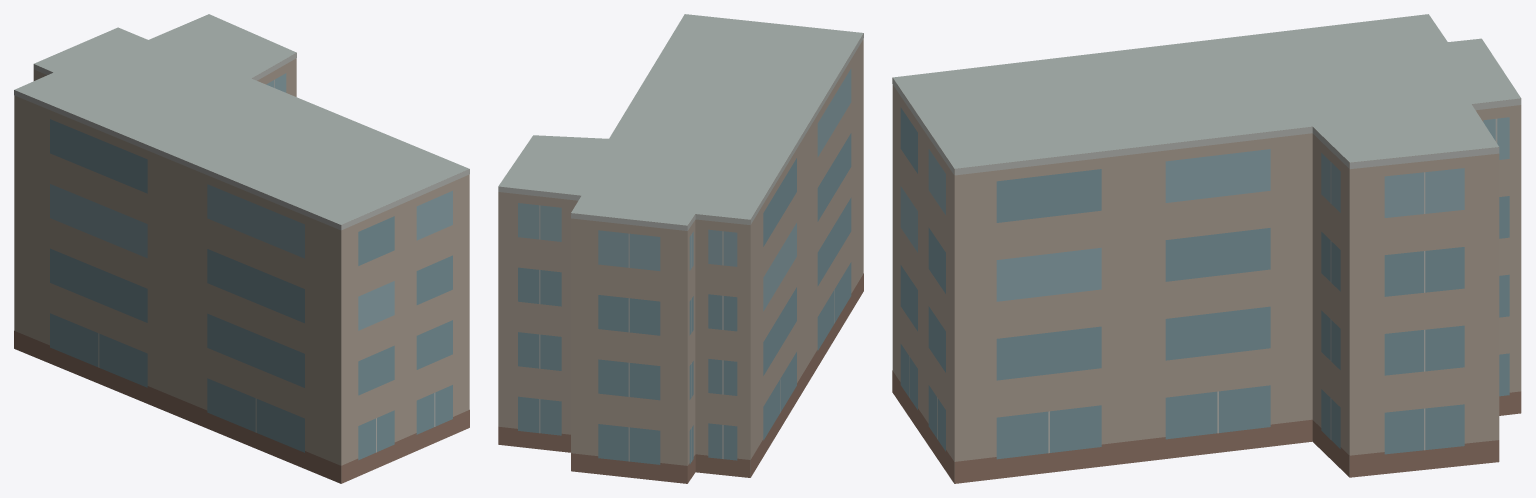
The model's file is survey-upis-32744264.glb.
The picture shows the model from 3 angles, left to right: view 1: azimuth 30°, elevation 25°; view 2: azimuth 150°, elevation 25°; view 3: azimuth 270°, elevation 25°; orthographic projection. The views are drawn at different scales.
Visible parts, largest first — view 1: survey-upis-32744264.tmp; view 2: survey-upis-32744264.tmp; view 3: survey-upis-32744264.tmp.
Boxes of the visible parts, <box> form: survey-upis-32744264.tmp: <box>14,14,469,483</box>; survey-upis-32744264.tmp: <box>498,14,863,483</box>; survey-upis-32744264.tmp: <box>892,14,1521,483</box>.
Bounding box in the file's own units: 12.24 × 11.6 × 21.
